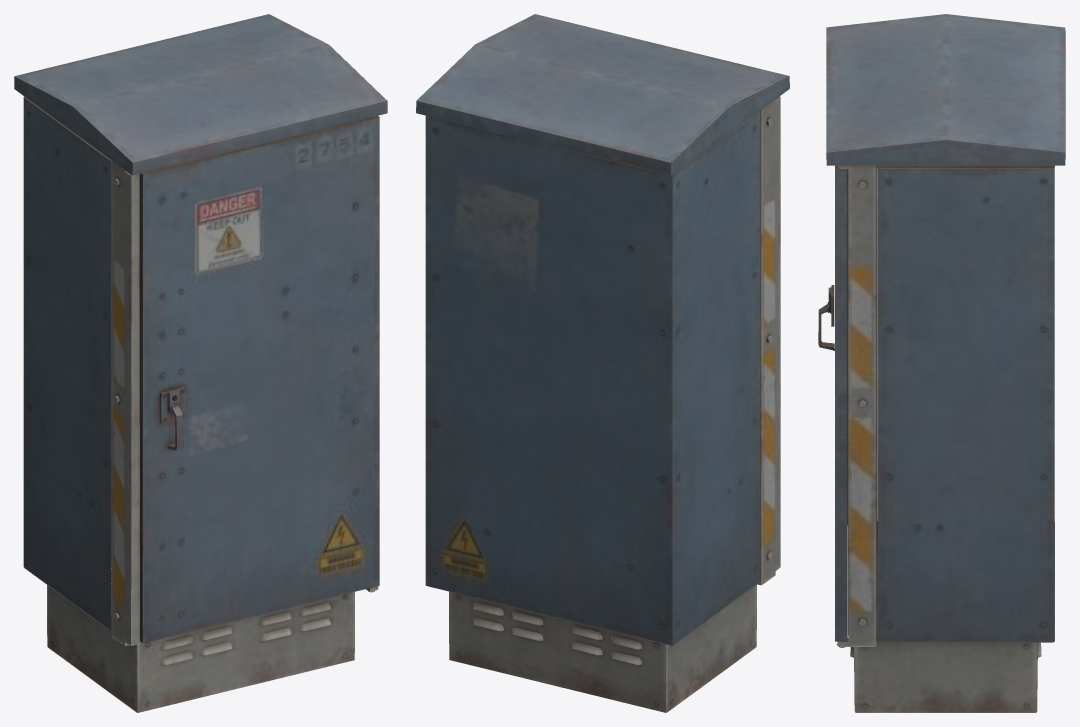
The model's file is utility_box_01.glb.
The picture shows the model from 3 angles, left to right: view 1: azimuth 30°, elevation 25°; view 2: azimuth 150°, elevation 25°; view 3: azimuth 270°, elevation 25°; orthographic projection.
Parts seen in each view (by area): view 1: utility_box_01_box; view 2: utility_box_01_box; view 3: utility_box_01_box.
Part boxes in pixels (bbox=[...]): utility_box_01_box: bbox=[14, 14, 387, 712]; utility_box_01_box: bbox=[416, 14, 789, 712]; utility_box_01_box: bbox=[818, 14, 1065, 712].
Size of the model in its own units: 0.5178 by 1.12 by 0.4303.
Materials: 1 (1 with a texture image).
